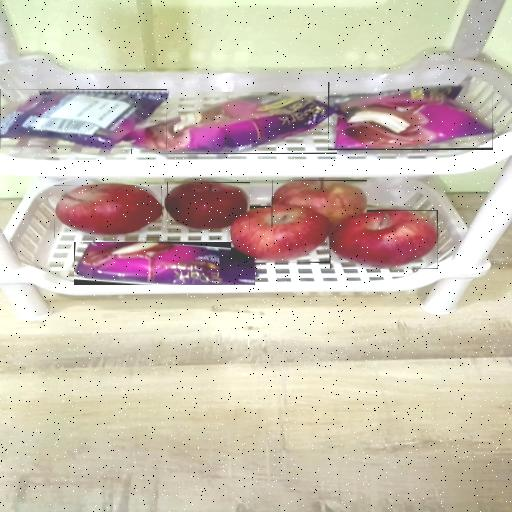Apple: (330, 210, 438, 269), (54, 186, 162, 240), (232, 206, 332, 263), (272, 180, 367, 228), (167, 182, 250, 230)
Choco Pie: (131, 92, 337, 154), (328, 82, 493, 150), (0, 89, 167, 149), (74, 242, 255, 285)
